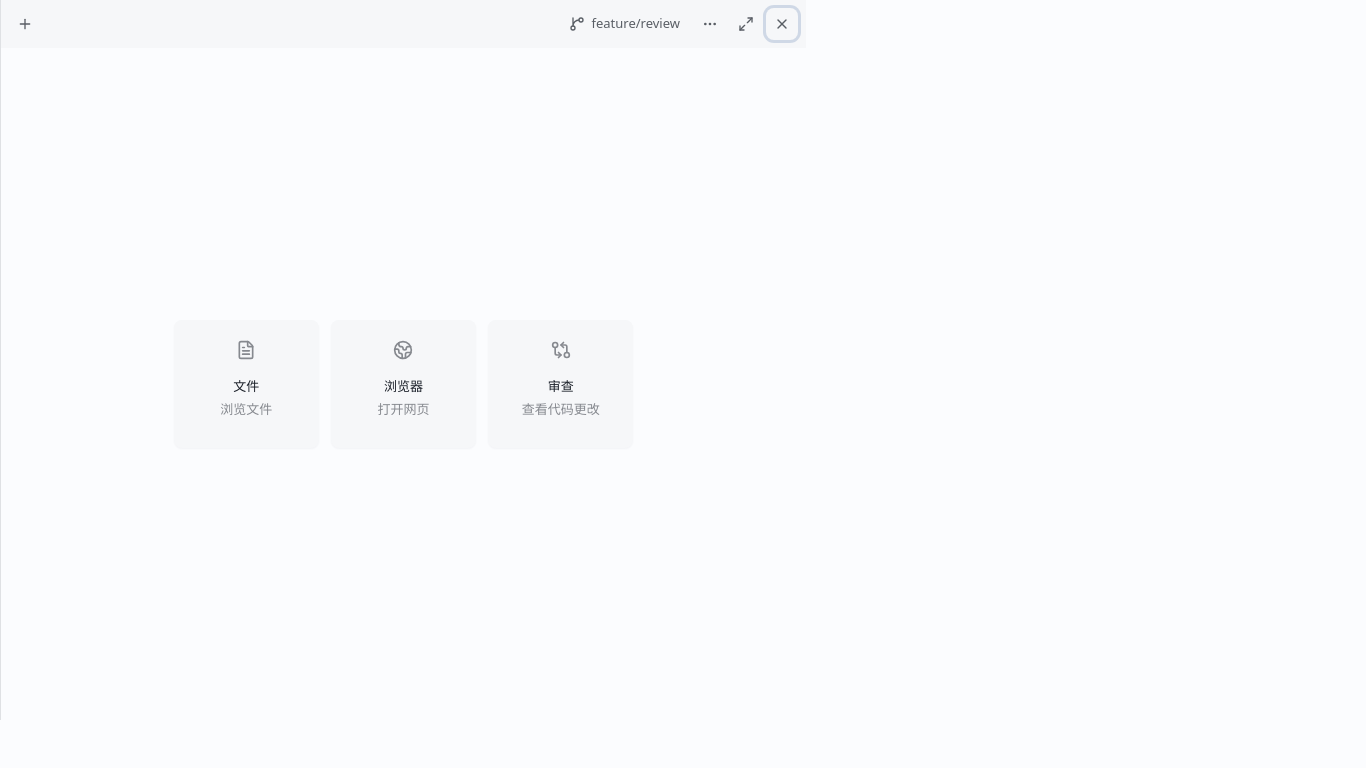
Scenario: ReviewWorkspacePanel › shows a project file tree from file tabs and opens selected workspace files
The width and height of the screenshot is (1366, 768).
Click the button named "New workspace item" at (25, 24), box x1=9 y1=8 x2=41 y2=40
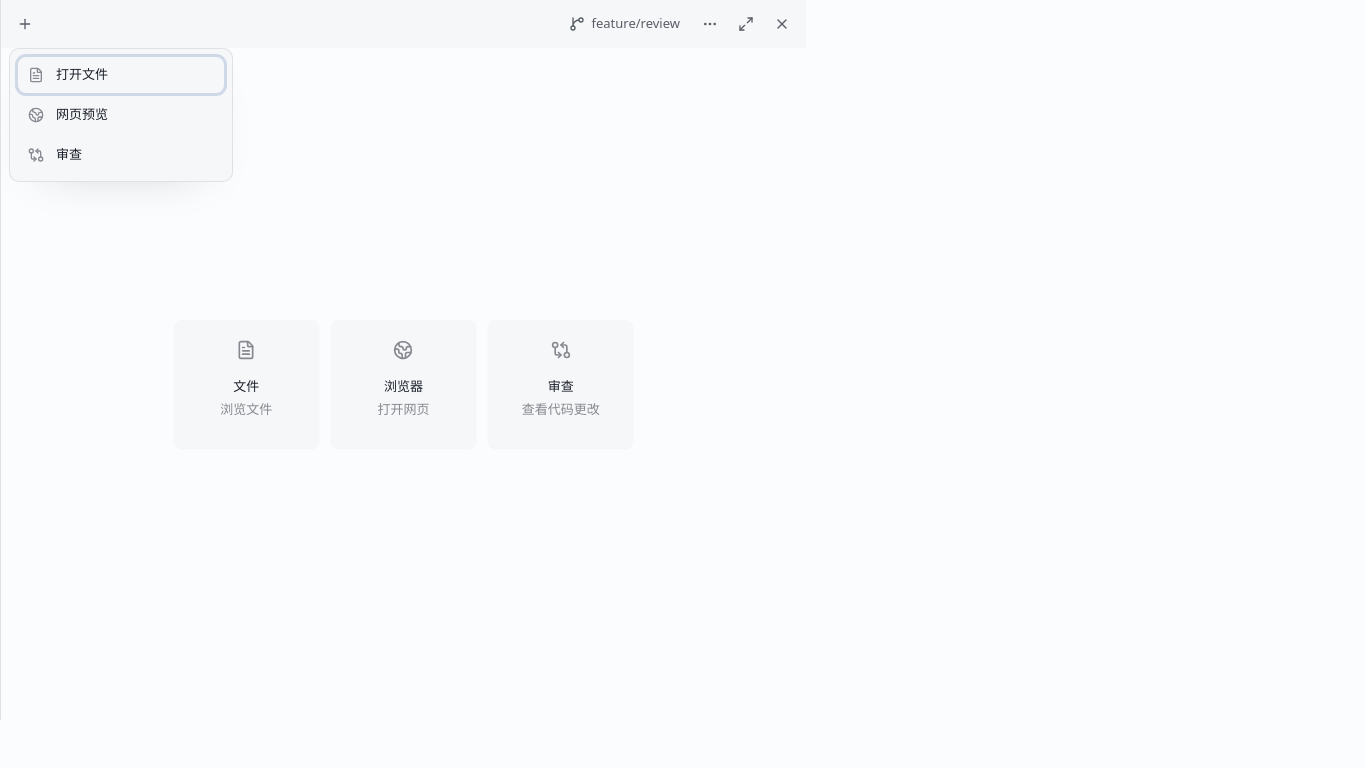
Click the button "打开文件" at (121, 75), box x1=18 y1=57 x2=224 y2=93
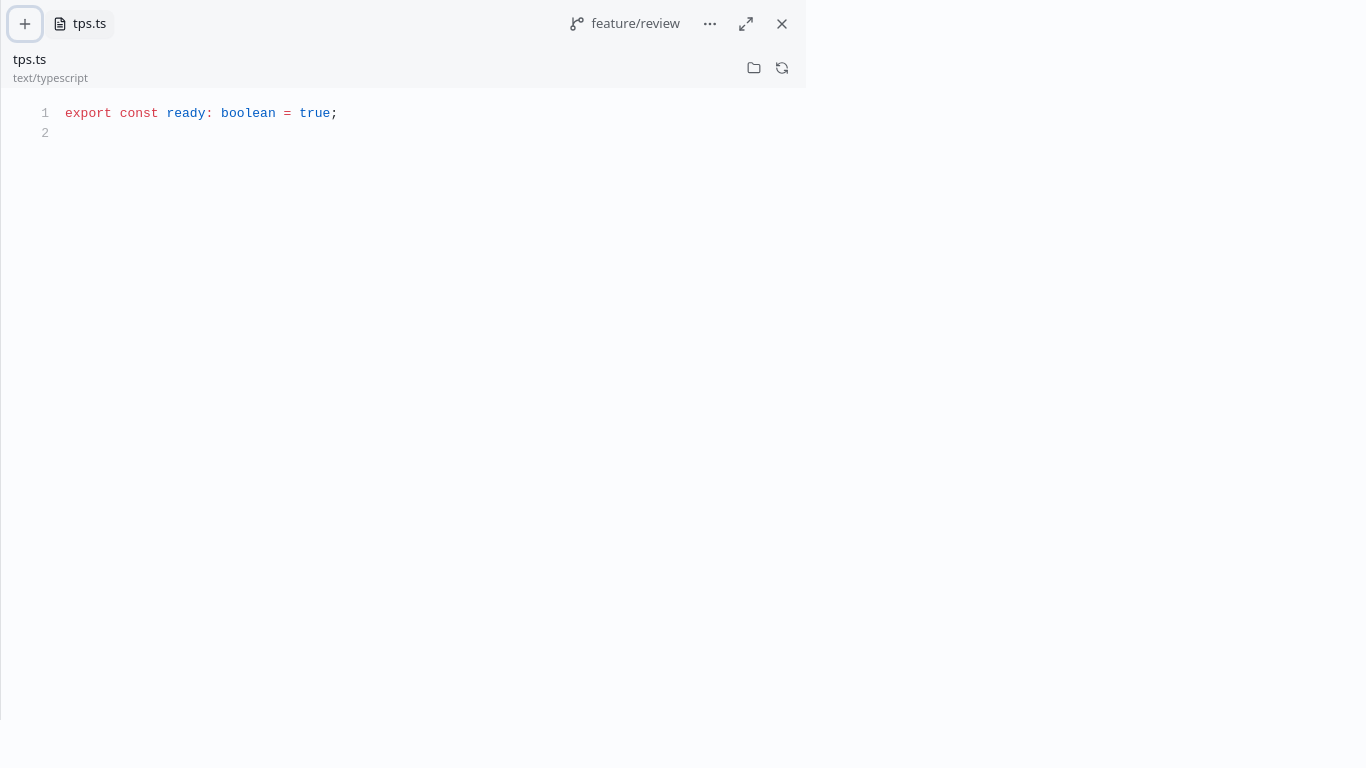
Now the tab "tps.ts" is shown, box x1=45 y1=10 x2=114 y2=38
Click the button named "显示项目文件树" at (754, 68), box x1=742 y1=56 x2=766 y2=80
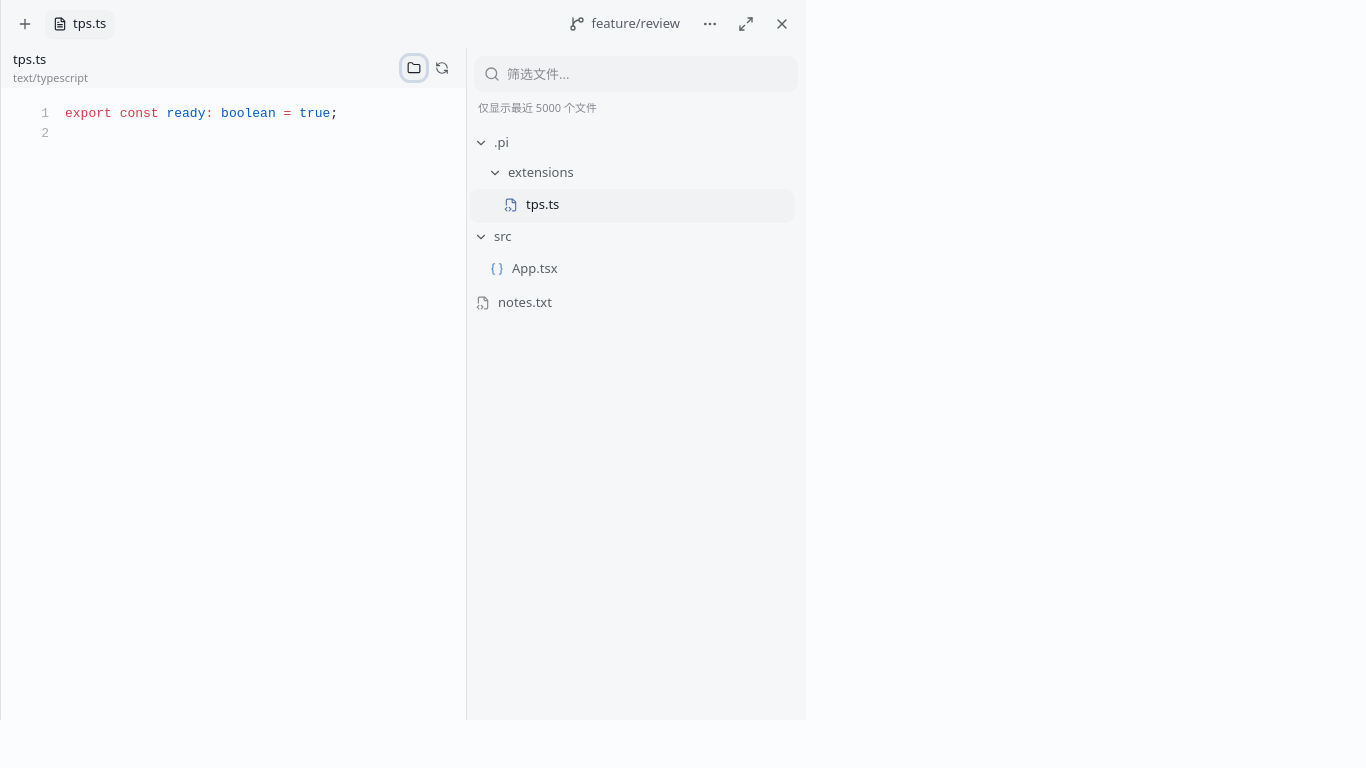
Now the list named "Workspace files tree" is shown, box x1=470 y1=128 x2=794 y2=318
Now the text "仅显示最近 5000 个文件" is shown, box x1=478 y1=100 x2=597 y2=115
Click the button "notes.txt" at (525, 302), box x1=470 y1=286 x2=794 y2=318
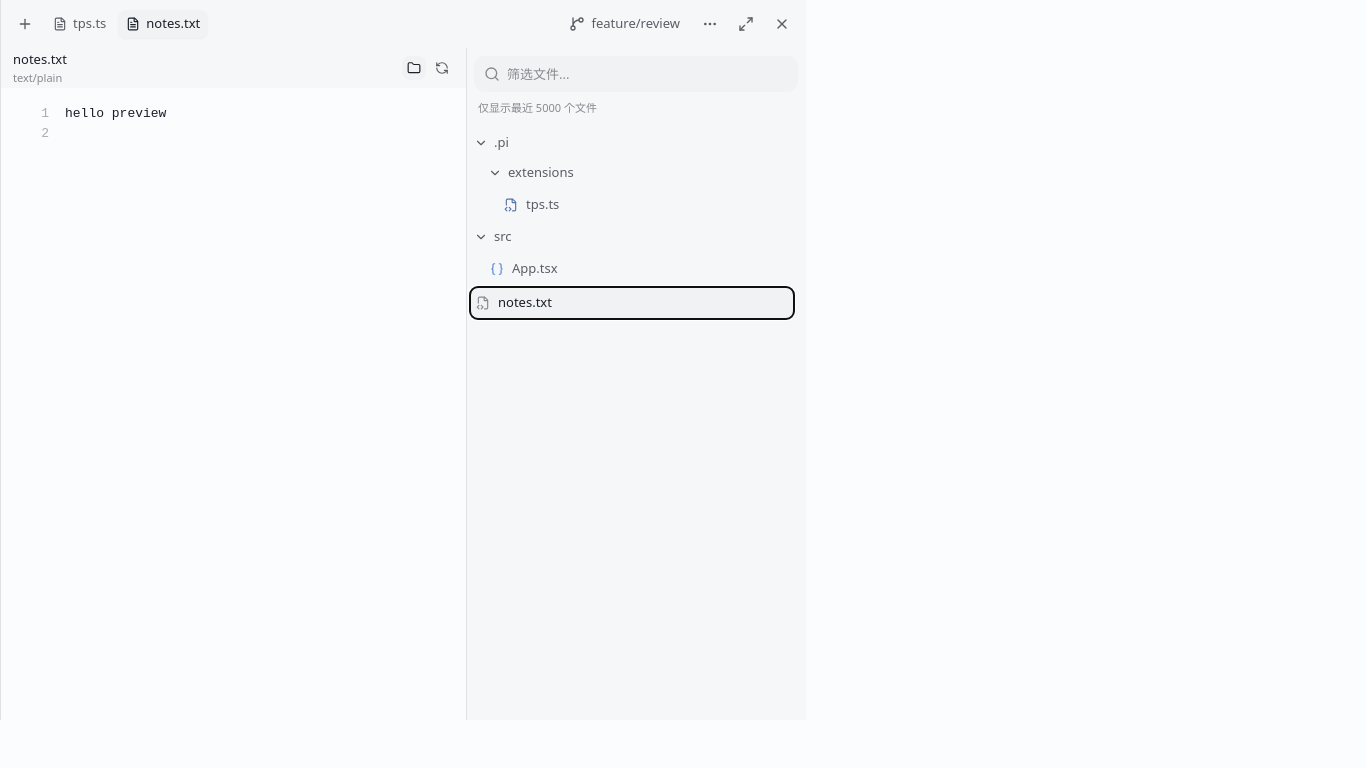
Now the tab "notes.txt" is shown, box x1=118 y1=10 x2=208 y2=38
Now the text "hello preview" is shown, box x1=65 y1=106 x2=166 y2=121
